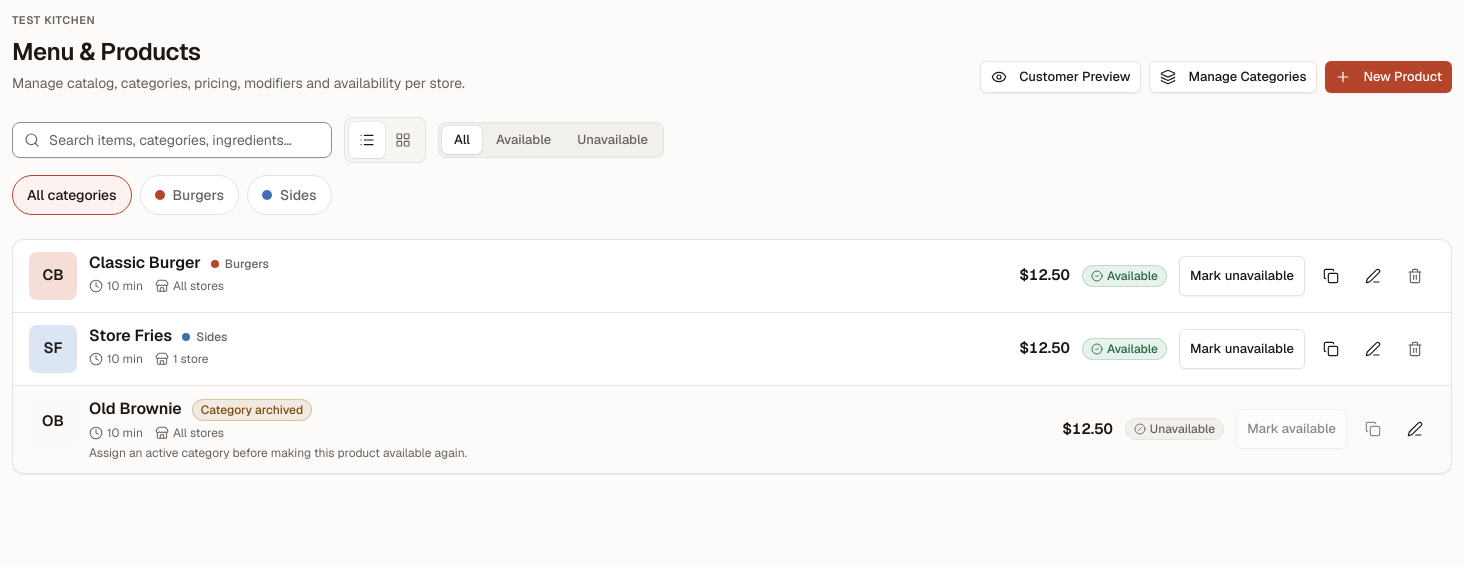
Test: products and categories › reports a successful save as success even if the refresh after it fails
Expected: the heading "Classic Burger" is shown, [89,252,201,274]
What coordinates should you click on to do the following:
click the button "Mark unavailable" in the row of "CB"
I would click on:
 (1242, 276)
Its box is [1179,256,1305,296].
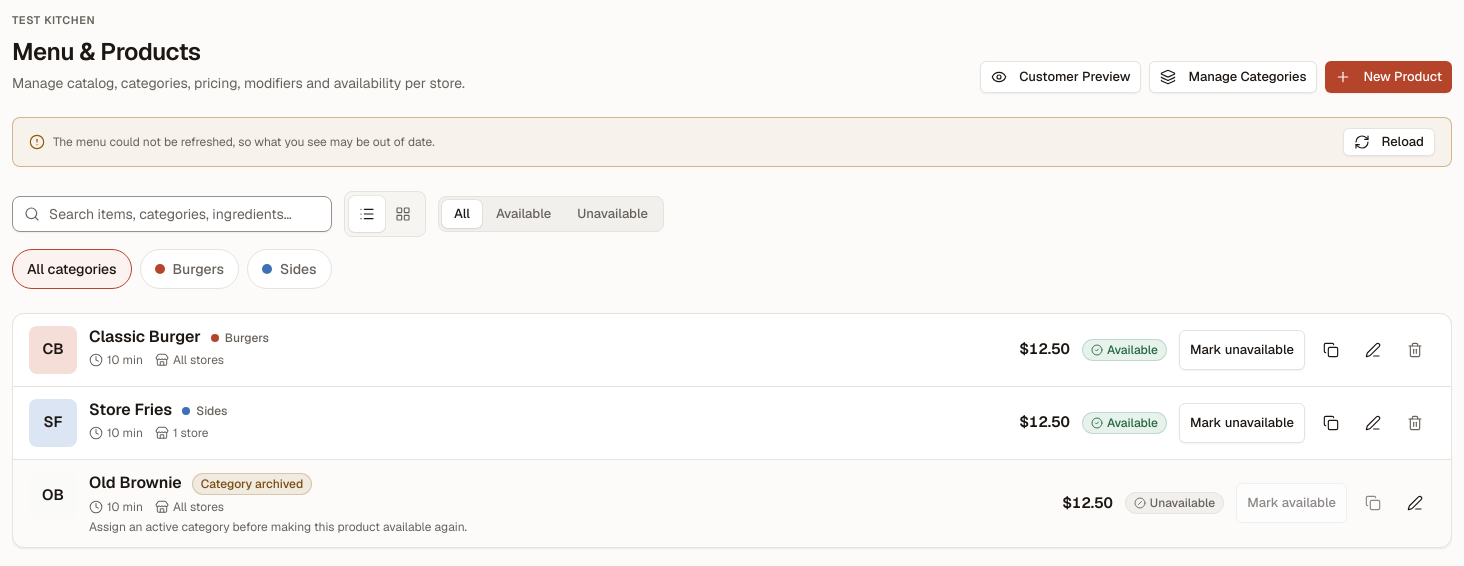
Expected: the text "could not be refreshed" is shown, [53,134,435,150]
What coordinates should you click on to do the following:
click the button "Reload"
I would click on:
 (1389, 142)
Its box is [1342,128,1435,156].
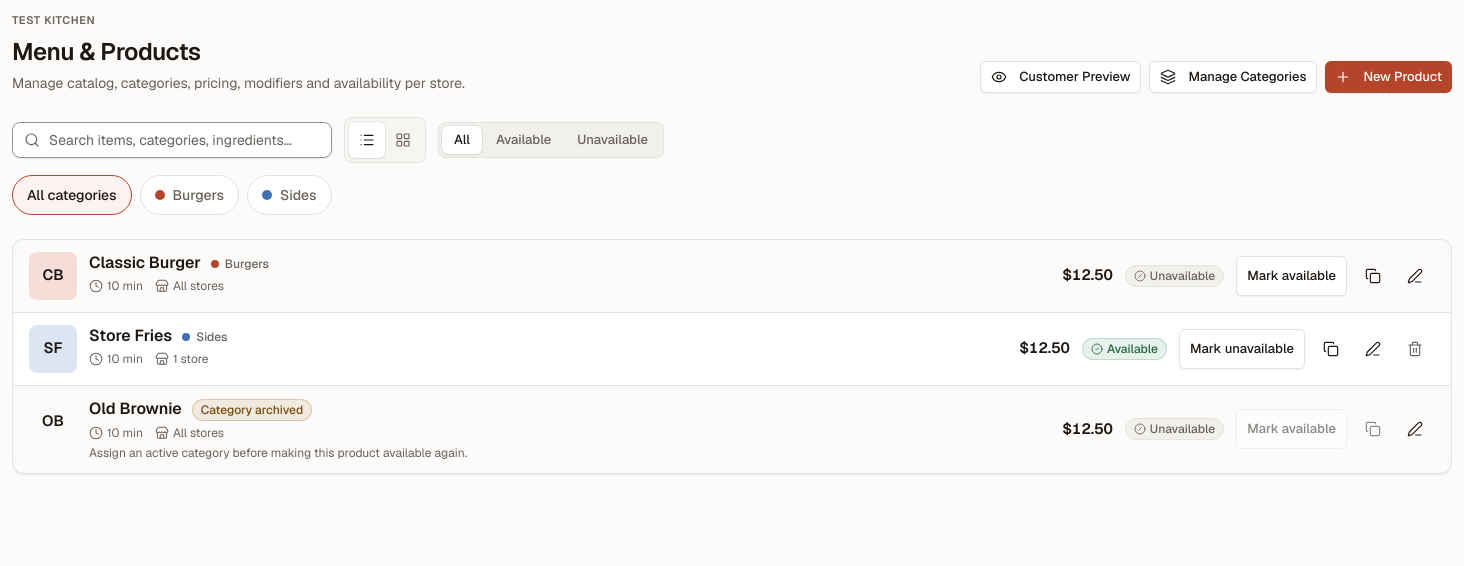
Expected: the text "could not be refreshed" is gone
Expected: the text "Unavailable" in the row of "CB" is shown, [1150,268,1215,284]
